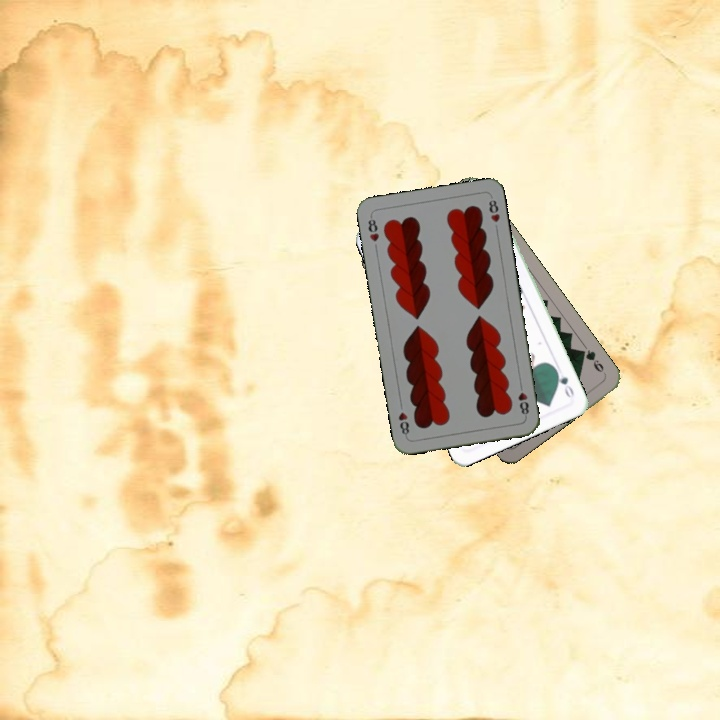G9: (576, 345, 606, 375)
GO: (551, 364, 577, 402)
H8: (514, 379, 531, 420), (364, 212, 382, 244)
